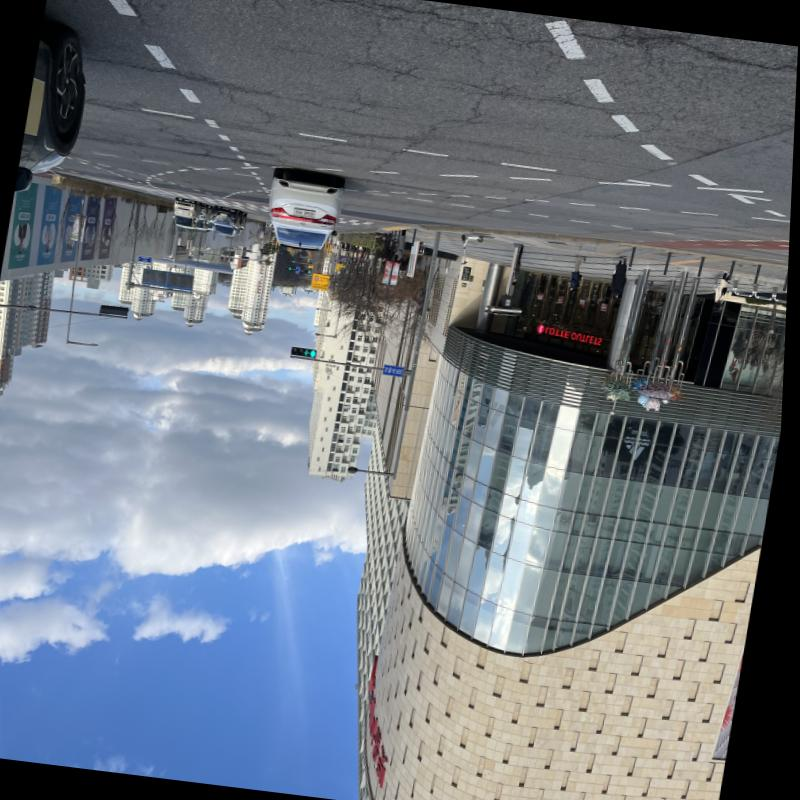green: (312, 350, 319, 358)
left: (306, 349, 313, 356)
